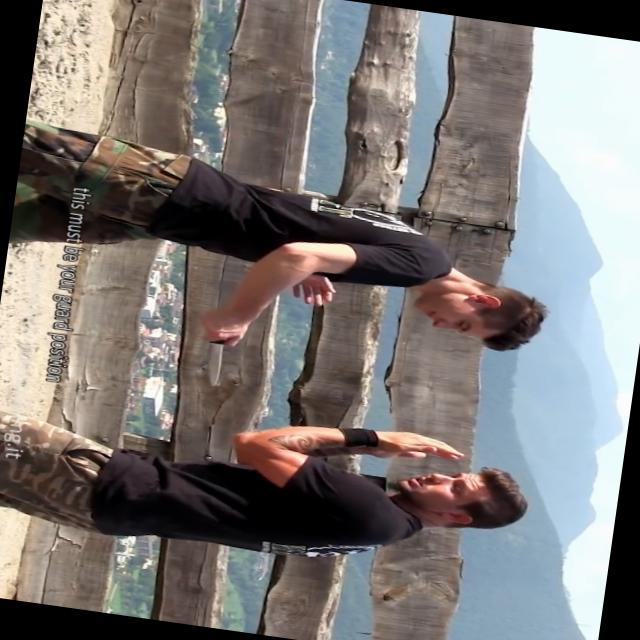knife: (184, 310, 254, 394)
